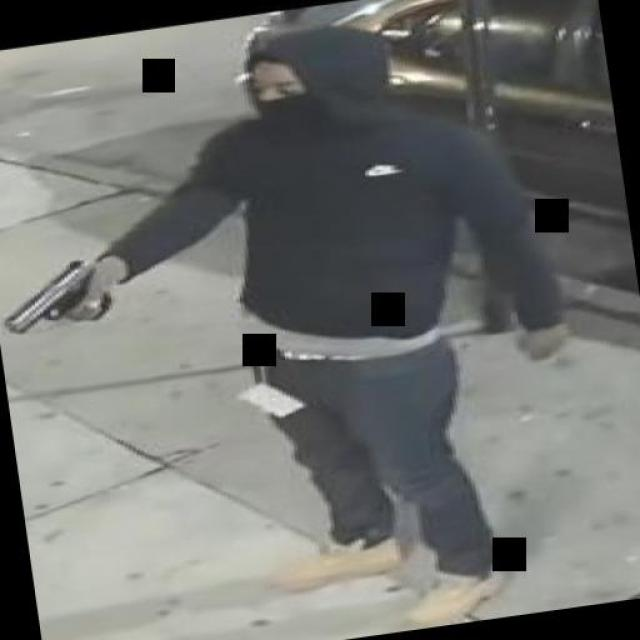gun: (0, 255, 121, 334)
